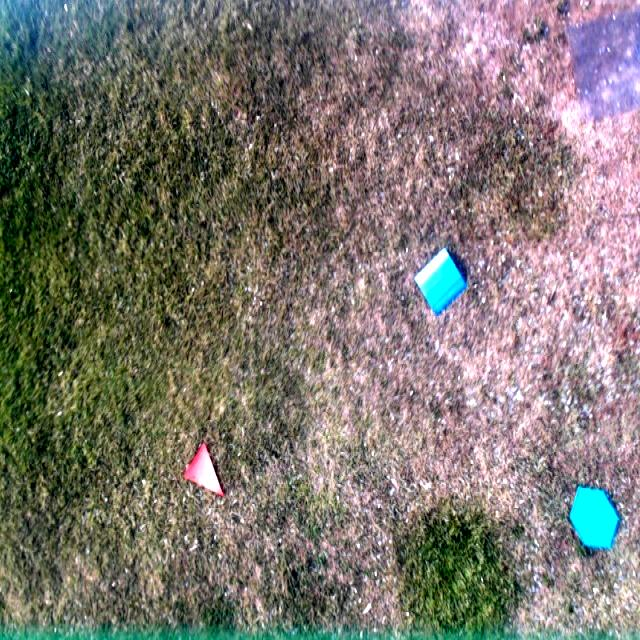blue_hexagon: (568, 485, 622, 550)
blue_square: (416, 247, 466, 317)
red_triangle: (182, 442, 225, 499)
